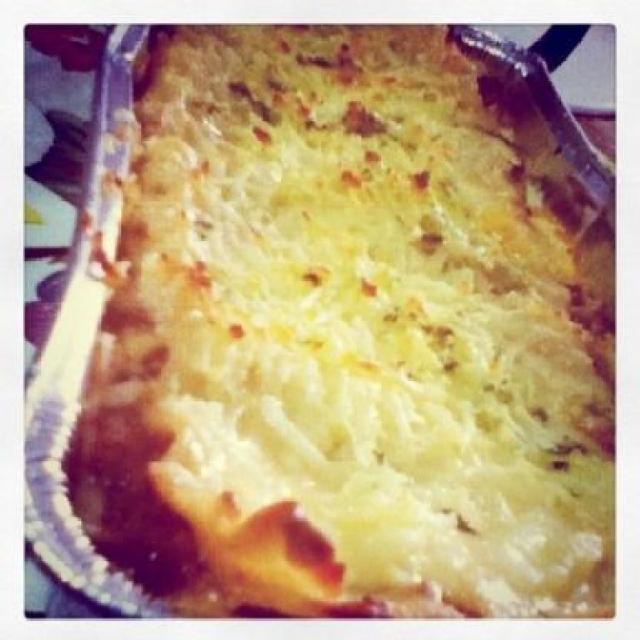Lasagna: (117, 42, 594, 594)
